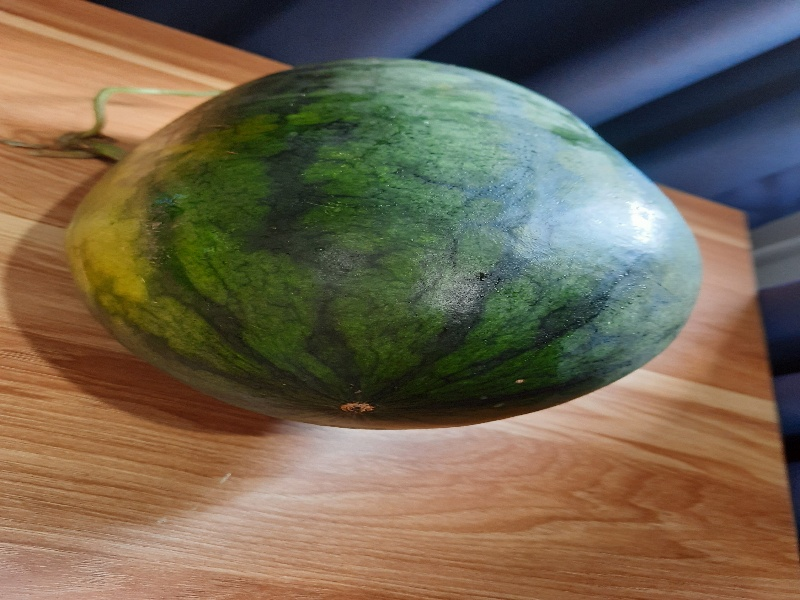fruit: (64, 50, 704, 438)
